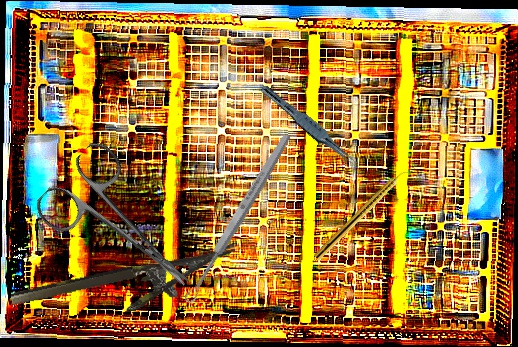Handpiece: (313, 166, 410, 263)
Iris Scissors: (29, 136, 218, 322)
Needle Holder: (9, 243, 244, 336)
Surgical Spoon: (181, 131, 294, 306)
Tissue Forceps: (256, 83, 361, 169)
